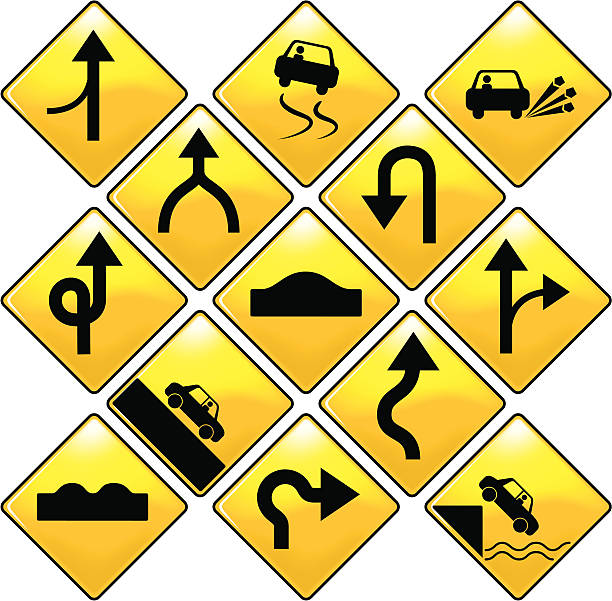right turn: (224, 415, 393, 594)
speed-breaker: (6, 415, 187, 600), (221, 209, 391, 381)
